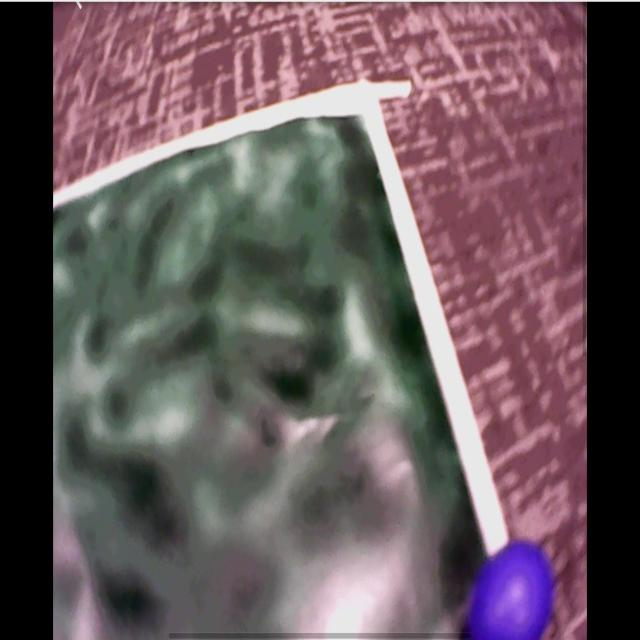ball: (472, 538, 554, 640)
